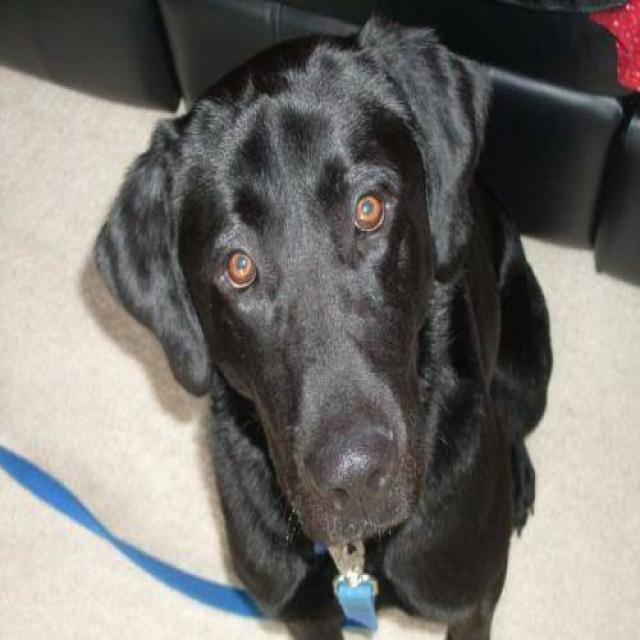dog: (92, 12, 553, 638)
